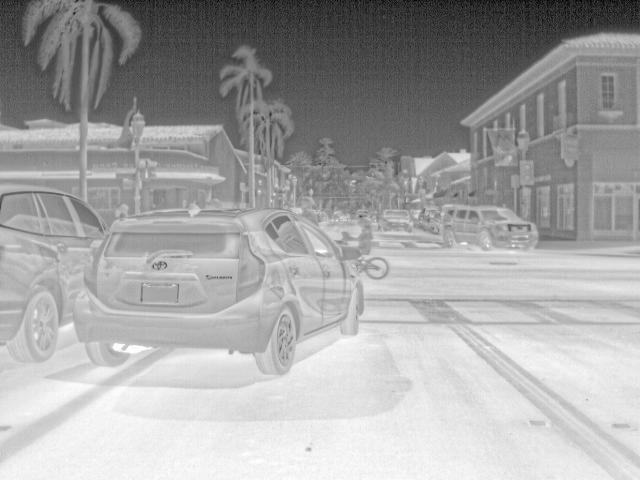car: (75, 207, 366, 377), (3, 182, 103, 362), (437, 204, 540, 246), (377, 208, 414, 234), (418, 205, 436, 227)
person: (344, 216, 376, 265)
